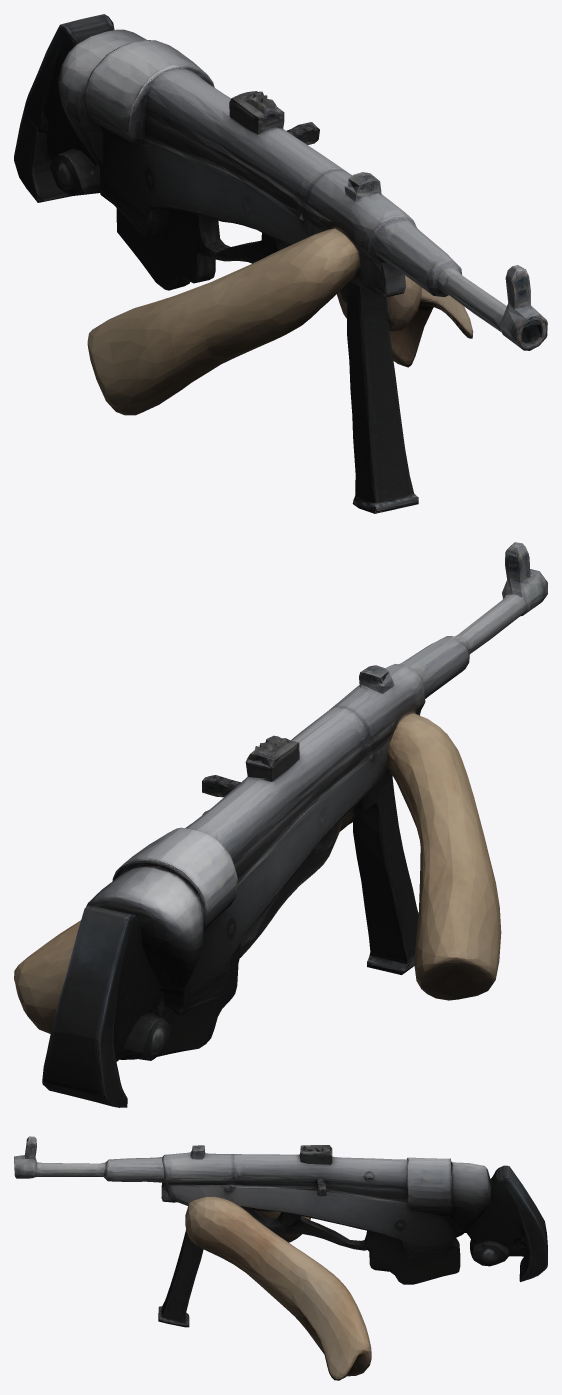
3 renders of one model, top to bottom at view 1: azimuth 30°, elevation 25°; view 2: azimuth 150°, elevation 25°; view 3: azimuth 270°, elevation 25°, orthographic. The views are drawn at different scales.
Parts seen in each view (by area): view 1: world; view 2: world; view 3: world.
Part boxes in pixels (x1,y1,x2,y2): world: (14,14,547,513); world: (14,542,547,1107); world: (14,1136,547,1380).
Bounding box in the file's own units: 0.516 × 0.3965 × 1.
Materials: 1 (1 with a texture image).
